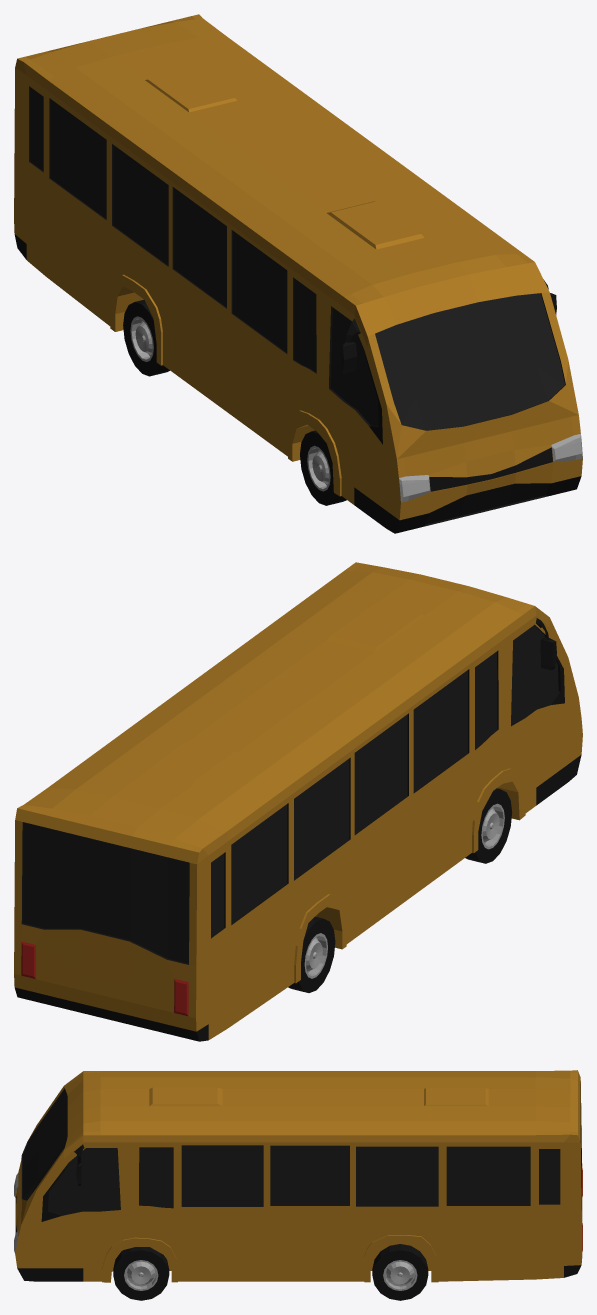
Rendered from Bus.fbx.
3 views of the same model, one above another, from view 1: azimuth 30°, elevation 25°; view 2: azimuth 150°, elevation 25°; view 3: azimuth 270°, elevation 25° (orthographic). The views are drawn at different scales.
Visible parts, largest first — view 1: Bus, Wheel BR, Wheel FR; view 2: Bus, Wheel BR, Wheel FR; view 3: Bus, Wheel BL, Wheel FL.
Boxes of the visible parts, x1,y1,x2,y2 form: Bus: (14, 14, 582, 533); Wheel BR: (123, 299, 169, 376); Wheel FR: (300, 430, 346, 505); Bus: (14, 562, 582, 1041); Wheel BR: (288, 916, 335, 992); Wheel FR: (465, 788, 512, 863); Bus: (14, 1070, 582, 1282); Wheel BL: (372, 1244, 428, 1300); Wheel FL: (113, 1247, 169, 1300).
Size of the model in its own units: 300 by 318 by 946.
